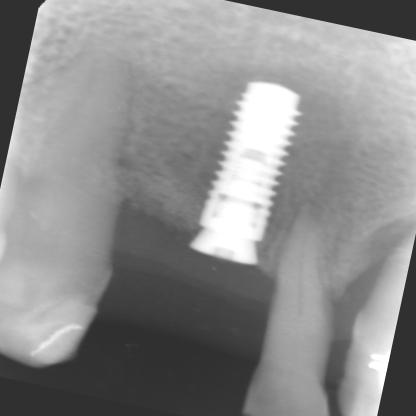ITI: (194, 58, 321, 249)
